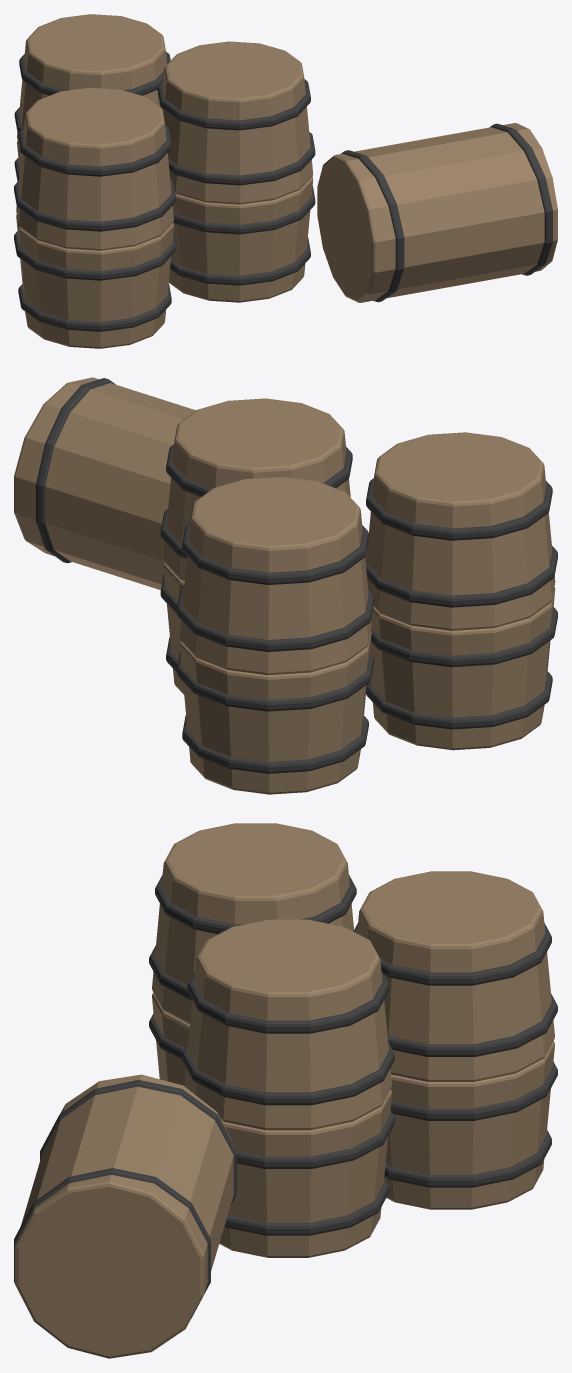
File: BarrelGroup.fbx
The picture shows the model from 3 angles, top to bottom: view 1: azimuth 30°, elevation 25°; view 2: azimuth 150°, elevation 25°; view 3: azimuth 270°, elevation 25°; orthographic projection. The views are drawn at different scales.
Parts seen in each view (by area): view 1: BarrelGroup; view 2: BarrelGroup; view 3: BarrelGroup.
Part boxes in pixels (bbox=[...]): BarrelGroup: bbox=[14, 14, 557, 348]; BarrelGroup: bbox=[14, 377, 557, 794]; BarrelGroup: bbox=[14, 823, 557, 1358].
Size of the model in its own units: 2.1 by 0.9 by 1.67.
